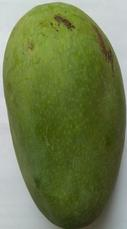Unripe: (1, 0, 127, 229)
